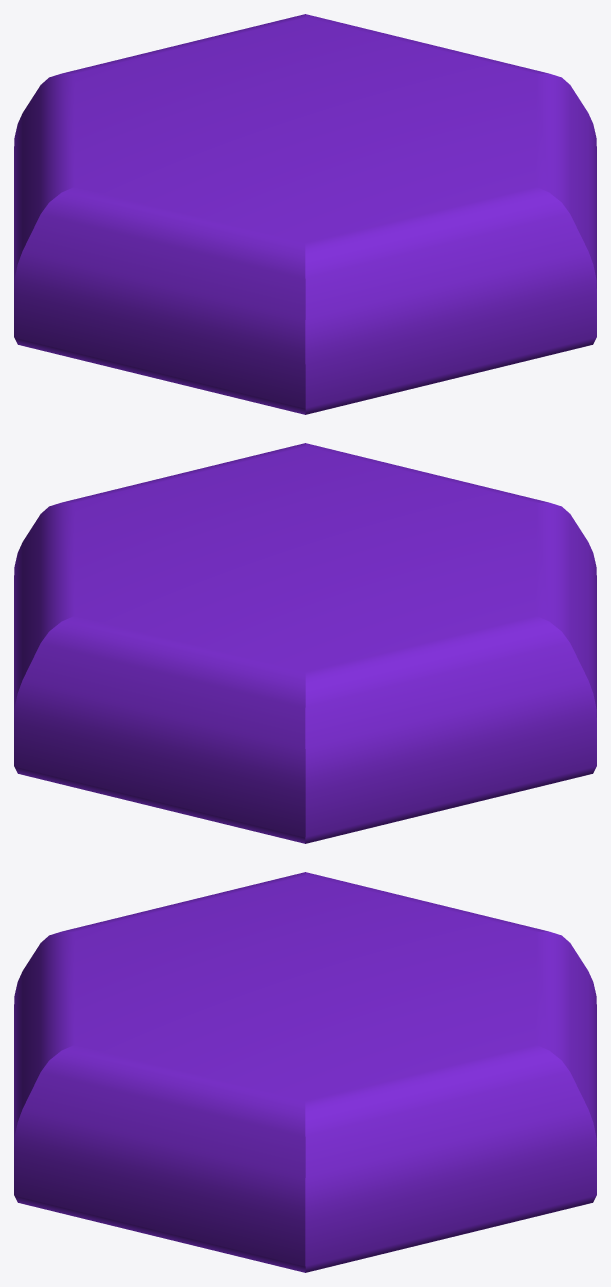
Rendered from TeleportTile.glb.
3 renders of one model, top to bottom at view 1: azimuth 30°, elevation 25°; view 2: azimuth 150°, elevation 25°; view 3: azimuth 270°, elevation 25°, orthographic.
Parts seen in each view (by area): view 1: BaseTile; view 2: BaseTile; view 3: BaseTile.
Boxes of the visible parts, <box> form: BaseTile: <box>14,14,596,414</box>; BaseTile: <box>14,443,596,843</box>; BaseTile: <box>14,872,596,1272</box>.
Bounding box in the file's own units: 1.96 × 0.4748 × 1.7.
